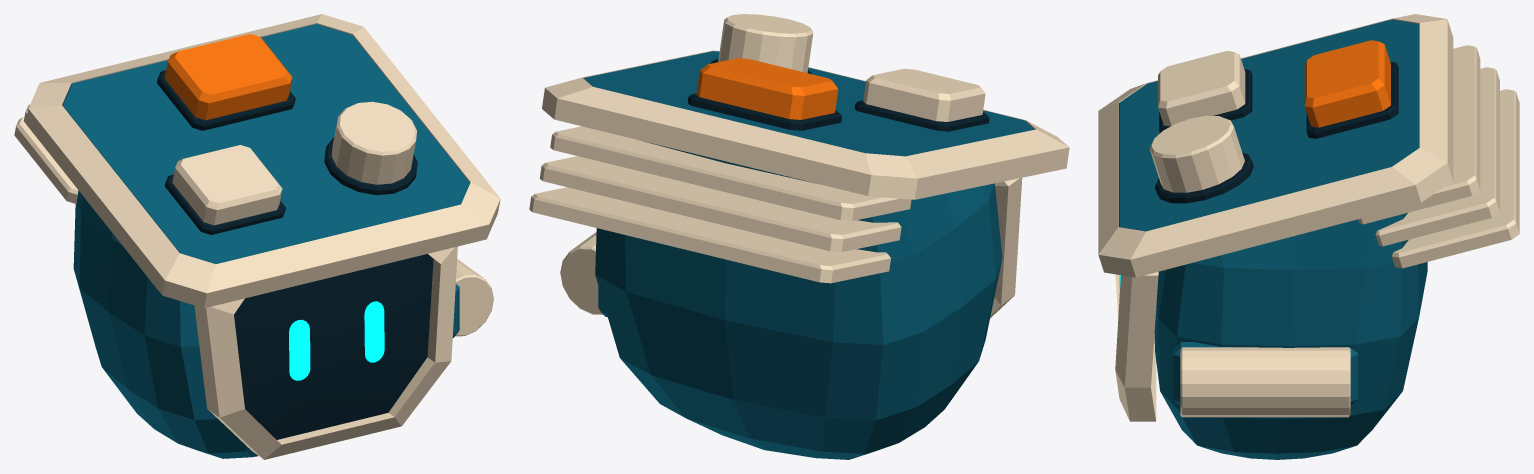
File: copilot_architect_v01.glb
3 renders of one model, left to right at view 1: azimuth 30°, elevation 25°; view 2: azimuth 150°, elevation 25°; view 3: azimuth 270°, elevation 25°, orthographic. The views are drawn at different scales.
Parts seen in each view (by area): view 1: pavilion_body, pavilion_eyes; view 2: pavilion_body; view 3: pavilion_body.
Part boxes in pixels (x1,y1,x2,y2): pavilion_body: (14,14,500,459); pavilion_eyes: (289,301,384,380); pavilion_body: (529,14,1069,459); pavilion_body: (1098,14,1519,459).
Size of the model in its own units: 2.93 by 2.73 by 2.9.
2 materials, 2 textured.
